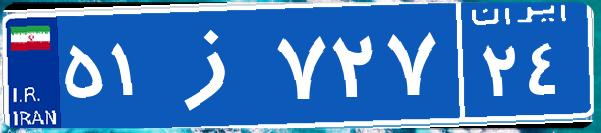1: (110, 28, 158, 105)
2: (330, 28, 385, 110), (475, 38, 525, 113)
4: (525, 38, 570, 115)
5: (57, 26, 110, 107)
7: (385, 28, 445, 110), (273, 28, 330, 110)
ز: (158, 15, 273, 115)
